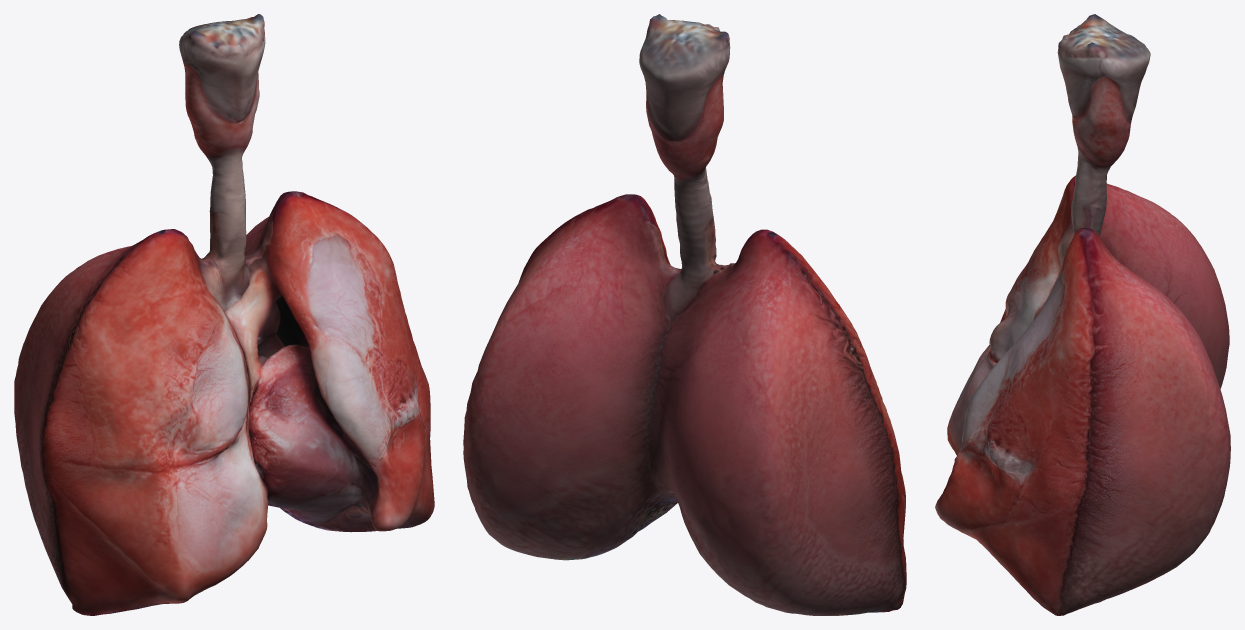
Rendered from lung.glb.
The picture shows the model from 3 angles, left to right: view 1: azimuth 30°, elevation 25°; view 2: azimuth 150°, elevation 25°; view 3: azimuth 270°, elevation 25°; orthographic projection. The views are drawn at different scales.
Size of the model in its own units: 0.885 by 1.2 by 0.6271.
Materials: 1 (1 with a texture image).
